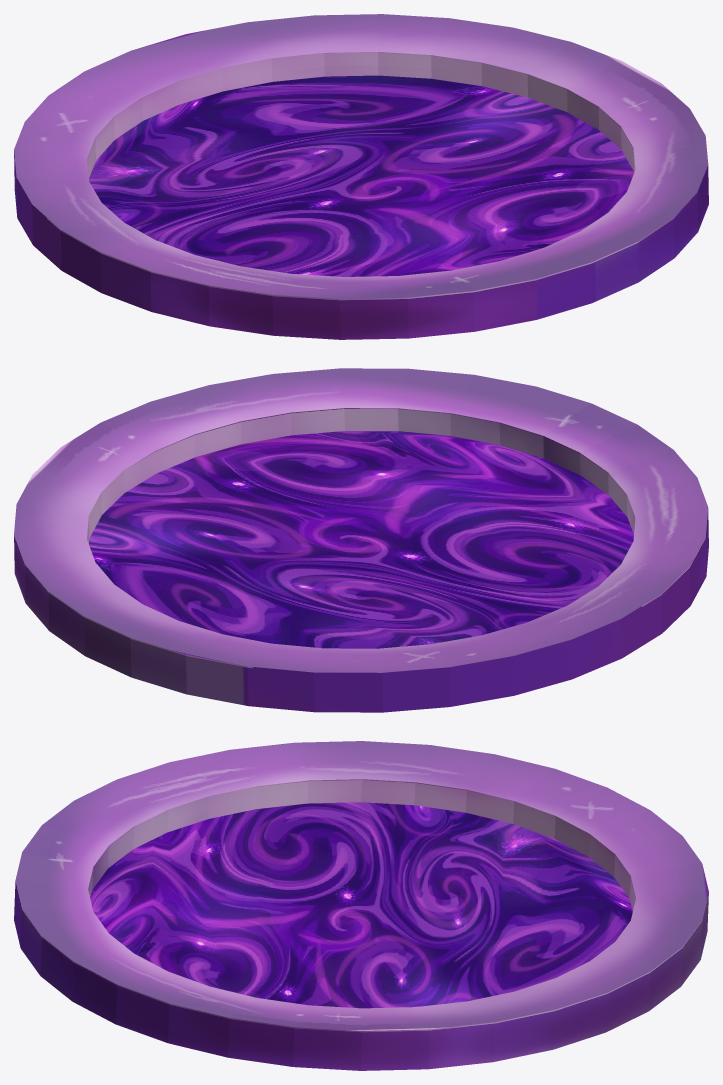
File: manuchak portal.fbx
The picture shows the model from 3 angles, top to bottom: view 1: azimuth 30°, elevation 25°; view 2: azimuth 150°, elevation 25°; view 3: azimuth 270°, elevation 25°; orthographic projection.
Visible parts, largest first — view 1: Cylinder.001, Plane.001; view 2: Cylinder.001, Plane.001; view 3: Cylinder.001, Plane.001.
Boxes of the visible parts, x1,y1,x2,y2 form: Cylinder.001: [14, 14, 708, 339]; Plane.001: [88, 75, 633, 276]; Cylinder.001: [14, 368, 708, 712]; Plane.001: [89, 431, 633, 648]; Cylinder.001: [14, 741, 708, 1070]; Plane.001: [90, 802, 632, 1008].
Size of the model in its own units: 4246 by 351 by 4299.
Materials: 2 (2 with a texture image).
